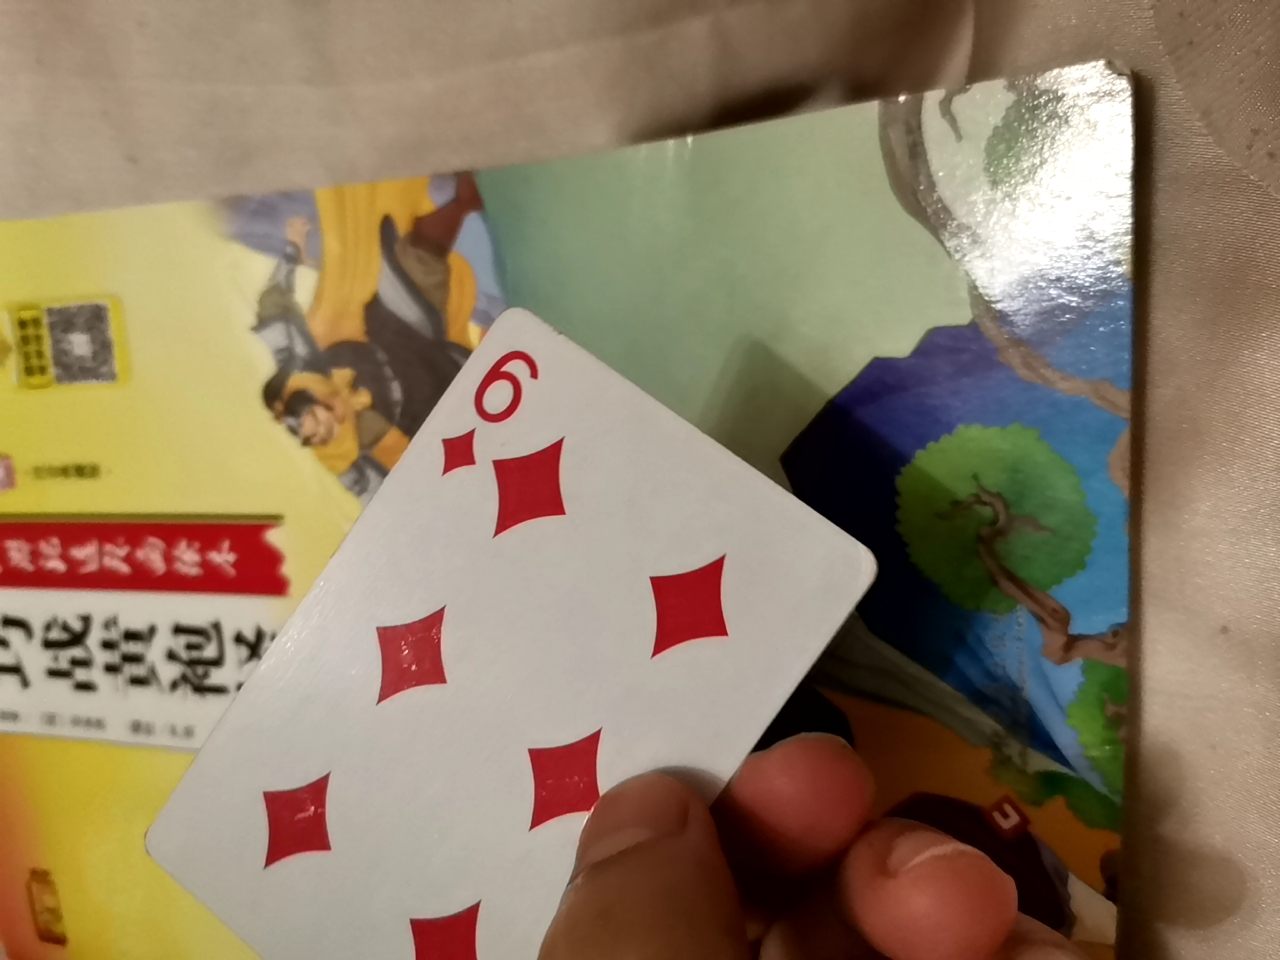fk 6: (179, 307, 900, 955)
